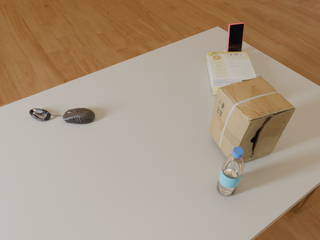bottle: (217, 147, 244, 196)
box: (209, 76, 295, 162), (206, 51, 256, 95)
mouse: (63, 108, 95, 124)
phone: (227, 23, 244, 52)
